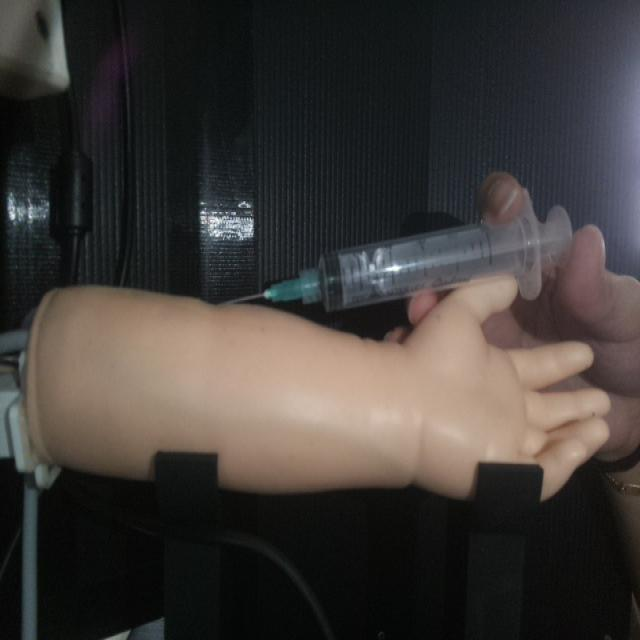Outside: (218, 185, 578, 318)
